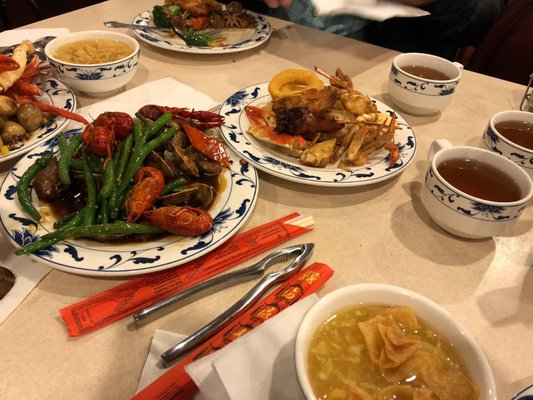sushi: (295, 282, 497, 400), (417, 145, 533, 241), (45, 29, 141, 97), (386, 53, 464, 117), (483, 110, 533, 170)
